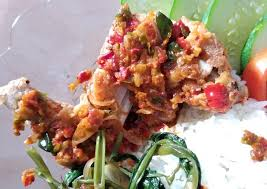ayam_geprek: (74, 13, 250, 136)
